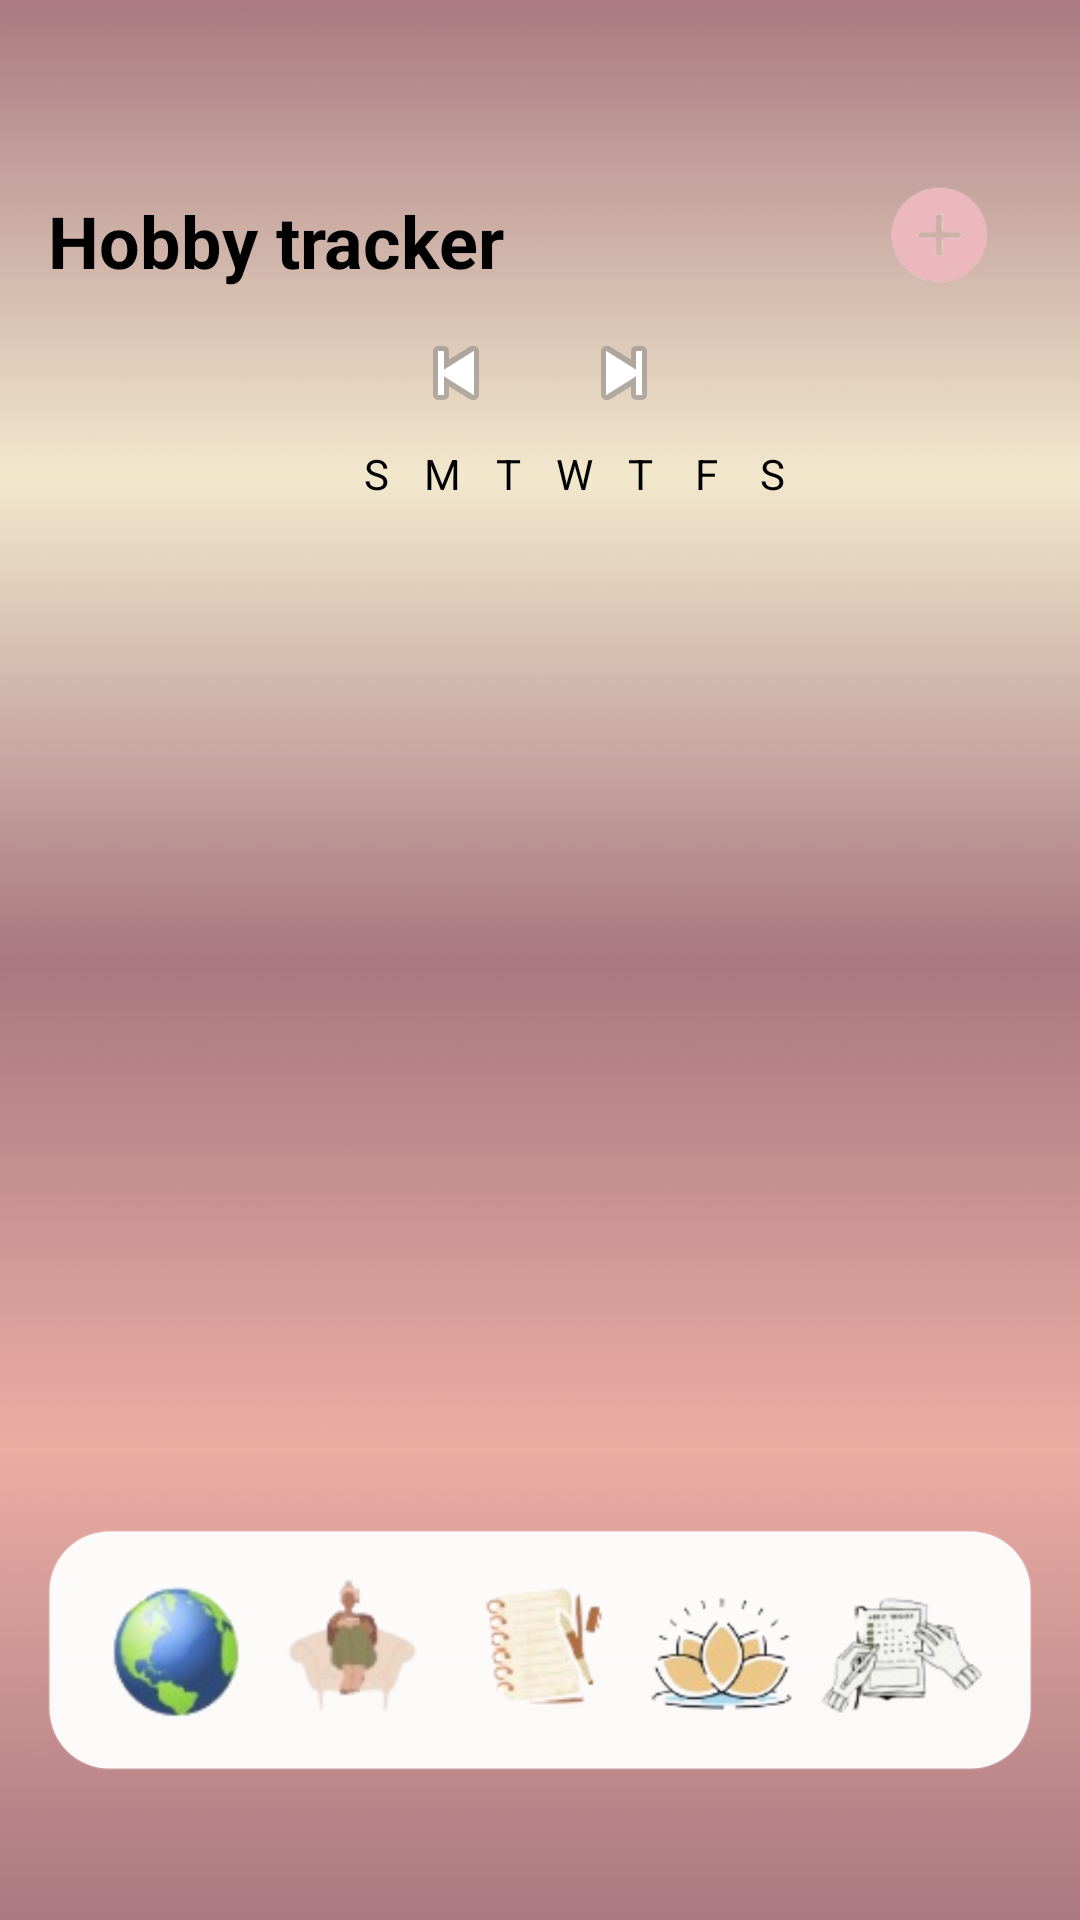

Screen size 1080x1920. Icon name, then its center in pixels as (x=x, y=y):
divertissement: (x=352, y=1644)
habits: (x=902, y=1655)
journal: (x=544, y=1646)
next: (x=624, y=373)
plus: (x=942, y=241)
previous: (x=456, y=373)
travels: (x=176, y=1651)
